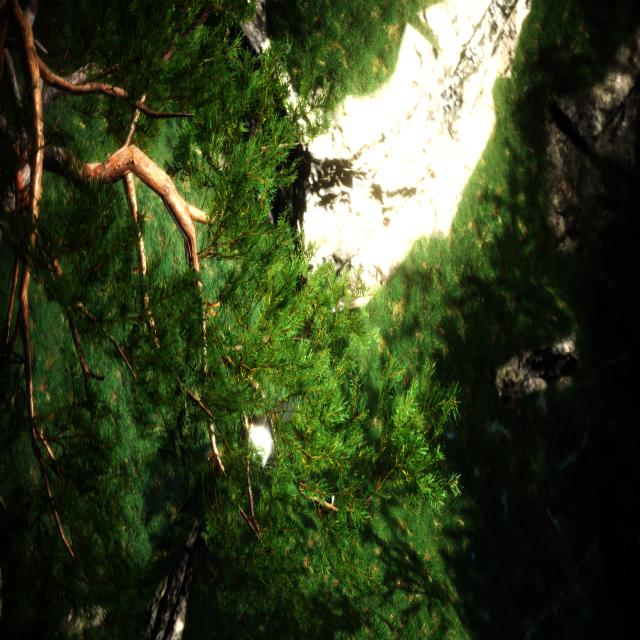Human: (230, 356, 336, 516)
